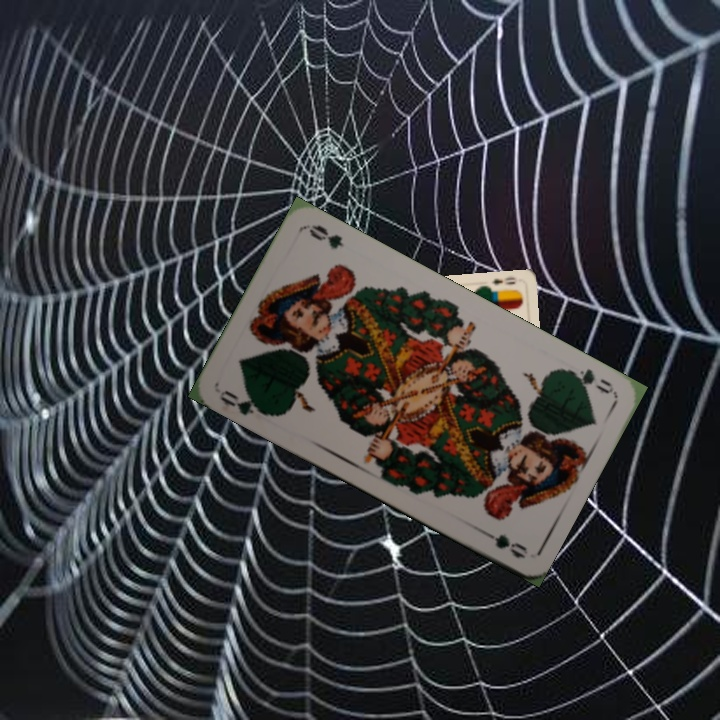EO: (487, 273, 519, 287)
GO: (216, 386, 273, 419), (560, 364, 617, 397)
